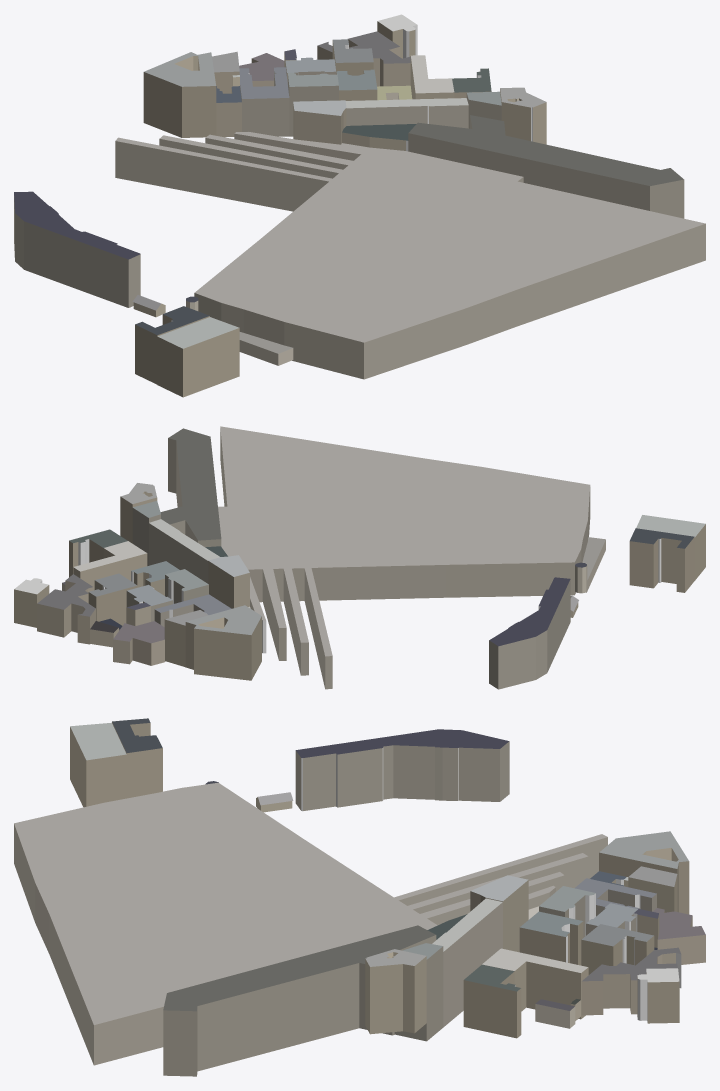
The picture shows the model from 3 angles, top to bottom: view 1: azimuth 30°, elevation 25°; view 2: azimuth 150°, elevation 25°; view 3: azimuth 270°, elevation 25°; orthographic projection. The views are drawn at different scales.
Visible parts, largest first — view 1: tuile; view 2: tuile; view 3: tuile.
Boxes of the visible parts, x1,y1,x2,y2 form: tuile: [14, 14, 705, 397]; tuile: [14, 426, 705, 689]; tuile: [14, 718, 705, 1076].
Size of the model in its own units: 298 by 40.04 by 293.
